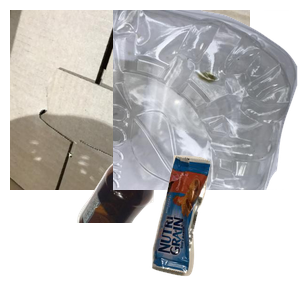cardboard: (10, 10, 250, 190)
glass: (74, 120, 244, 300)
plastic: (113, 10, 300, 190)
trash: (149, 152, 300, 300)
